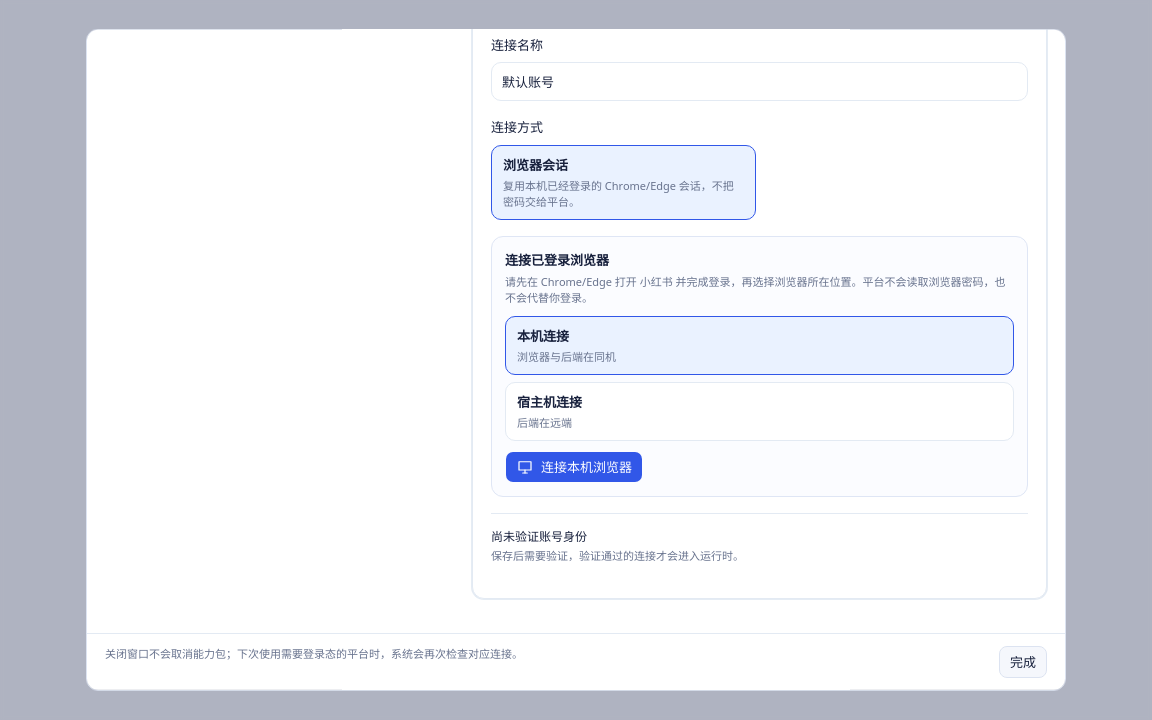
Test: 用户确认浏览器设备 › browser_relay 创建本人设备配对而不是借服务端浏览器
(page scrolled)
What coordinates should you click on to do the following:
click the radio button labelled "宿主机连接 后端在远端"
I would click on:
 (549, 402)
Its box is 505,382 -> 1014,441.
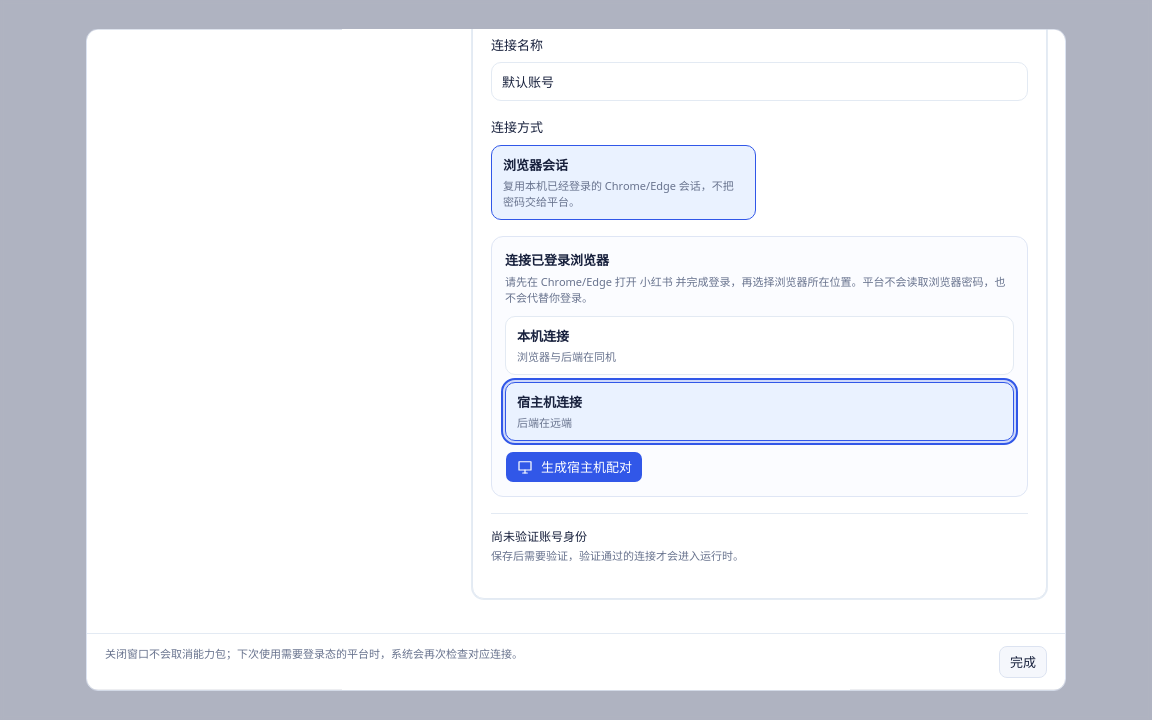
What coordinates should you click on to do the following:
click the button "生成宿主机配对"
I would click on:
 (574, 467)
Its box is 505,451 -> 643,483.
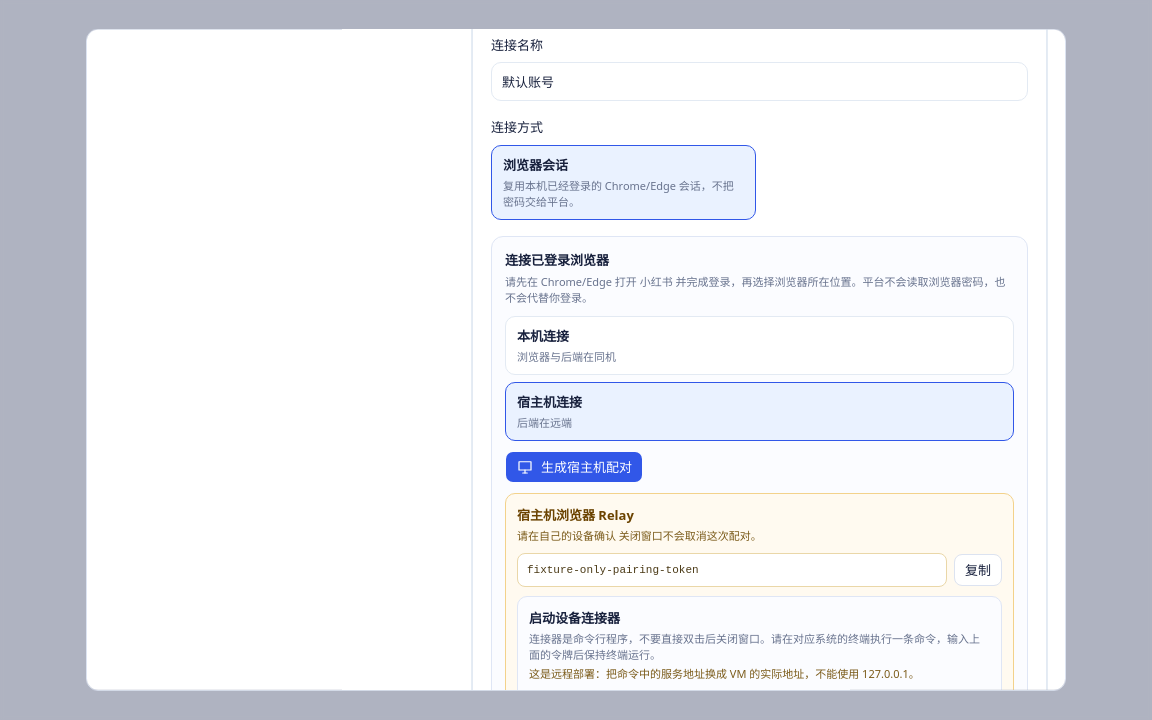
Result: the text "fixture-only-pairing-token" is shown at 517,553 -> 947,587
What coordinates should you click on to do the following:
click the radio button labelled "本机连接 浏览器与后端在同机"
I would click on:
 (543, 336)
Its box is 505,316 -> 1014,375.
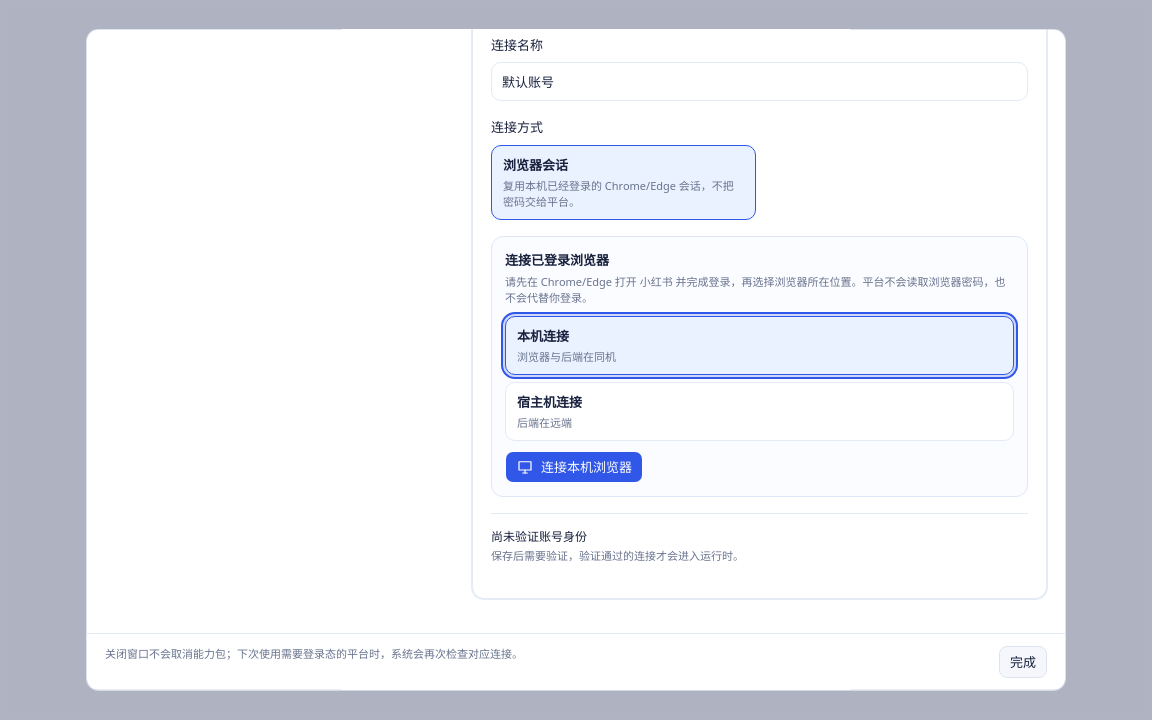
Result: the text "fixture-only-pairing-token" is gone
